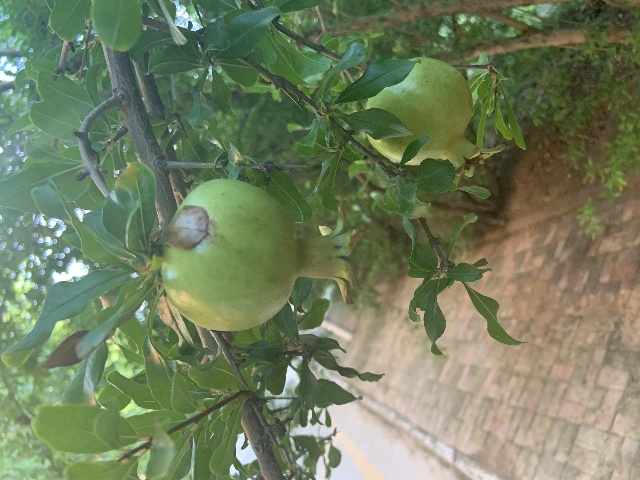mid-growth: (161, 179, 356, 332), (366, 56, 505, 185)
